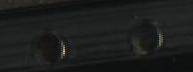joints: (31, 26, 69, 67), (128, 16, 164, 56)
